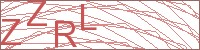L: (78, 2, 98, 32)
R: (52, 19, 79, 50)
Z: (1, 17, 23, 46), (27, 1, 48, 27)
